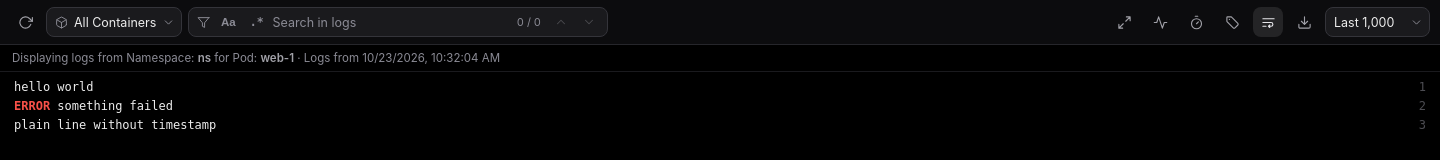
Test: LogsViewer › searches and highlights matches with a live count
This screenshot has width=1440, height=160.
Expected: the text "hello world" is shown, [14,80,94,94]
Type "failed" into the search field labelled "Search in logs" at (391, 22), box [273,14,509,30]
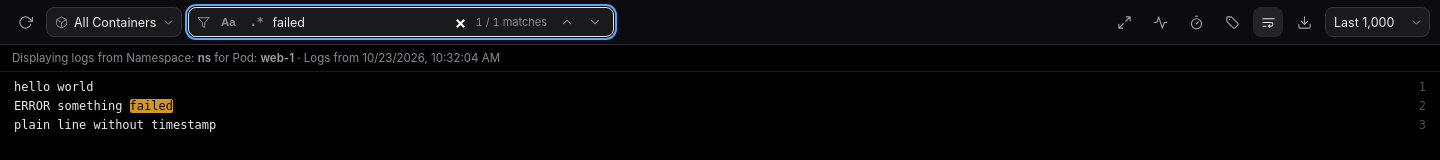
Expected: the text with class "logs-hl" reads "failed", [130,99,173,113]
Expected: the text "1 / 1 matches" is shown, [472,15,551,29]
// regex guard: an invalid pattern never throws
Click the button named "Use regular expression" at (257, 22), box [245,11,269,33]
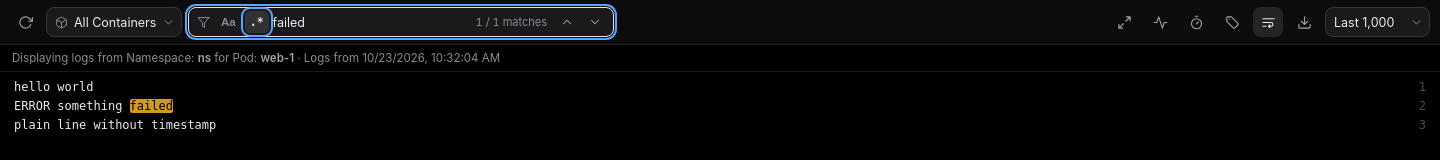
Clear the search field named "Search in logs" at (370, 22), box [273,14,468,30]
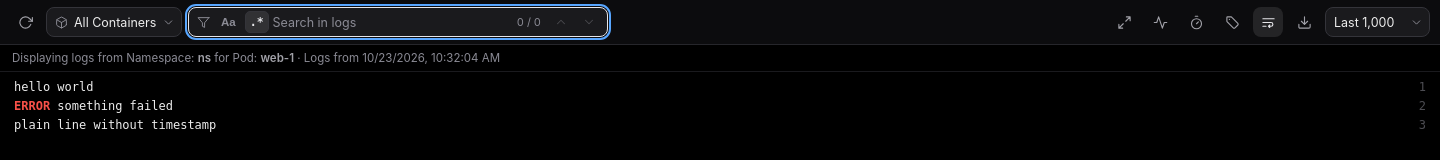
Type "(" into the search field labelled "Search in logs" at (391, 22), box [273,14,509,30]
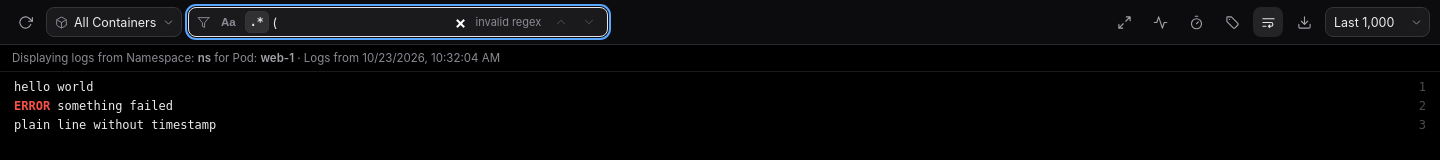
Expected: the text "invalid regex" is shown, [472,15,545,29]
